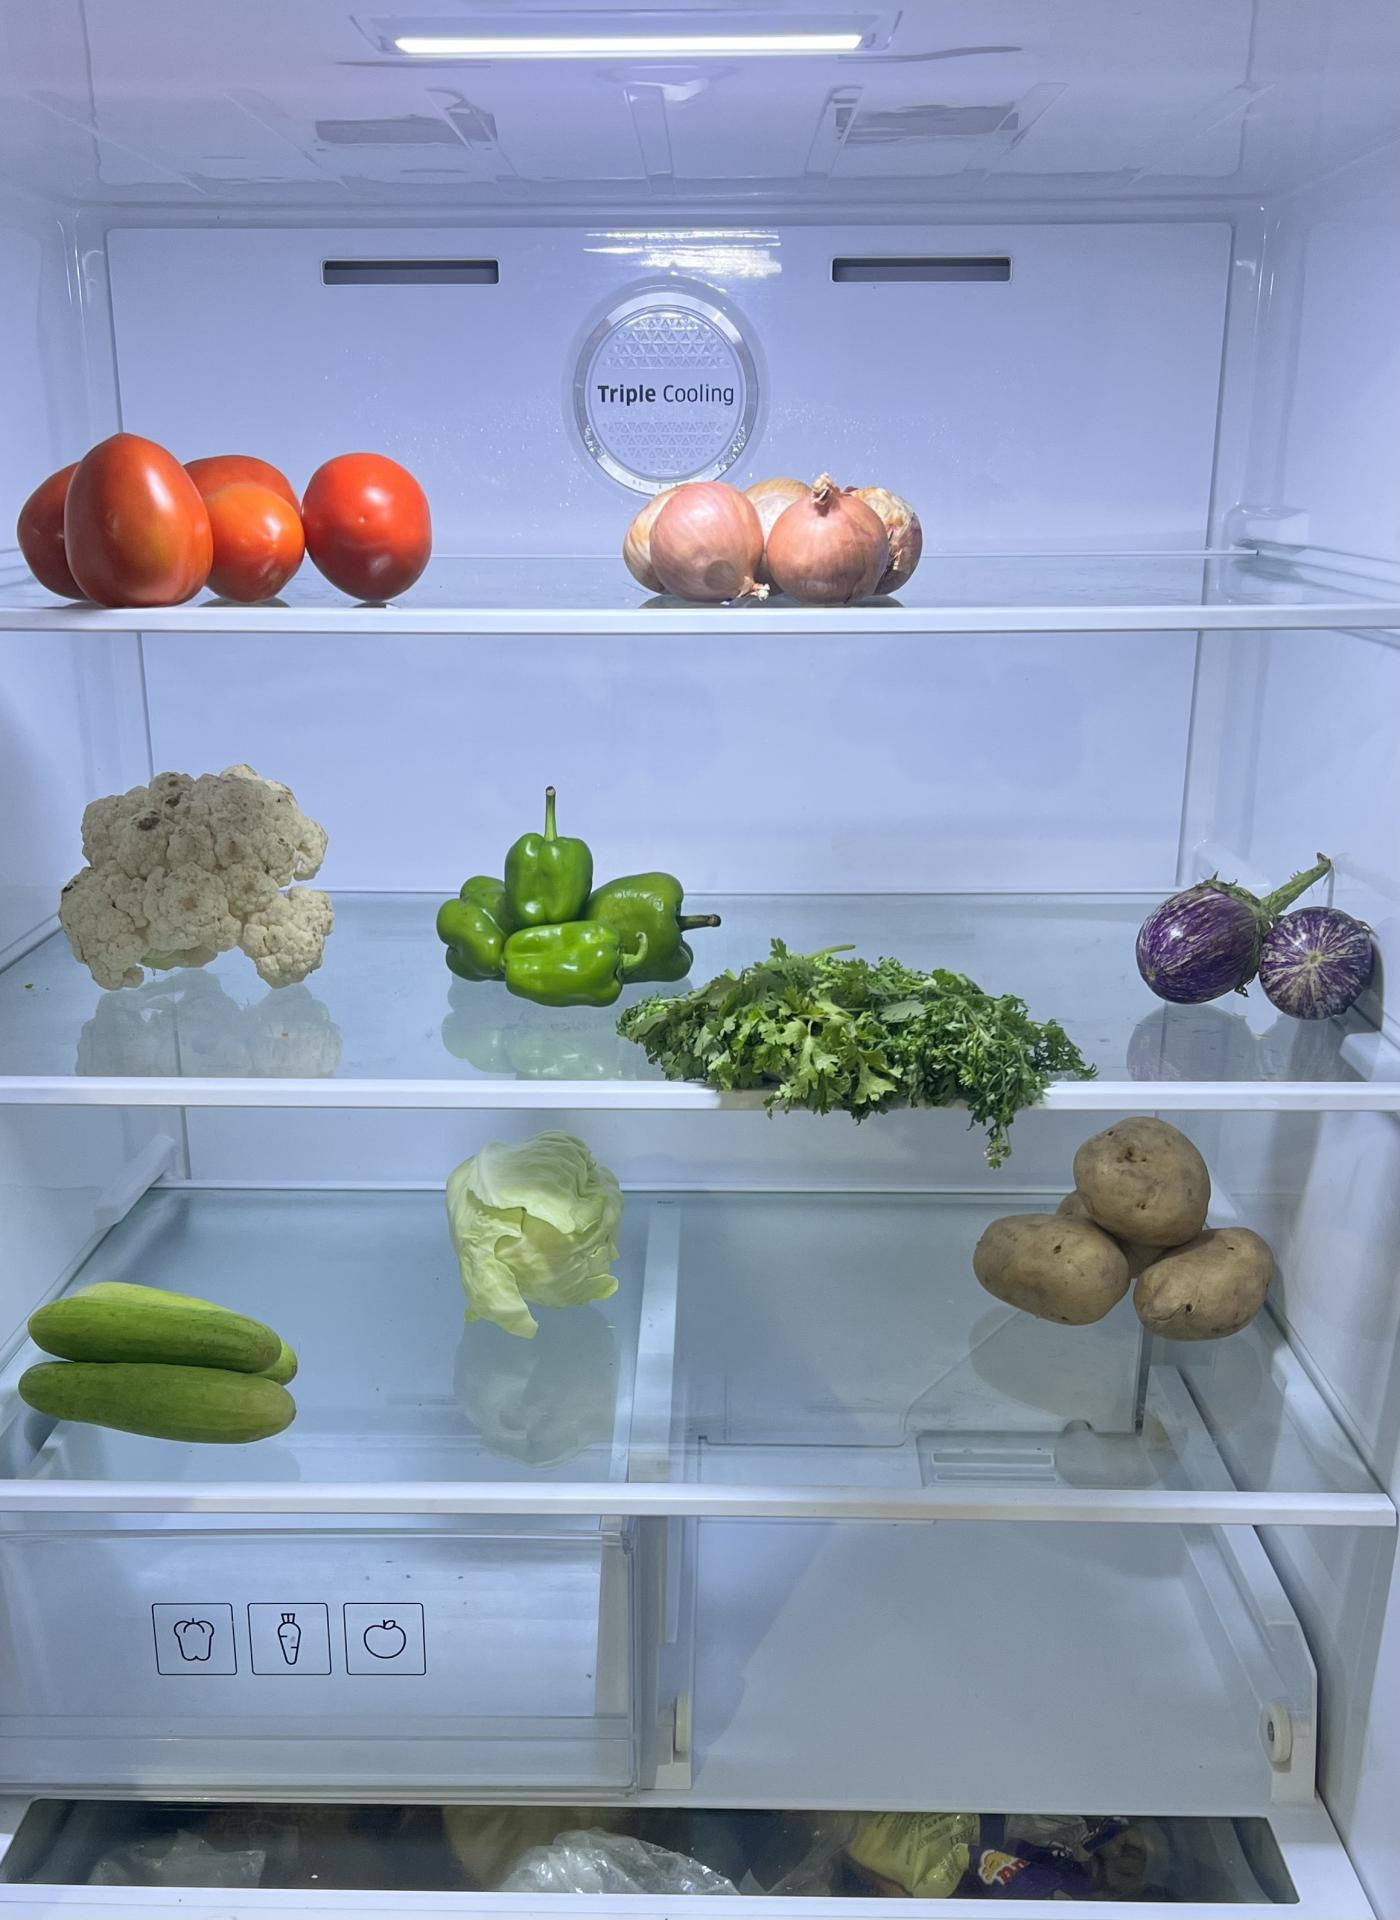brinjal: (1136, 865, 1397, 1029)
cabbage: (452, 1134, 632, 1327)
capsicum: (437, 832, 698, 1011)
cauliflower: (58, 759, 334, 985)
coriander: (635, 944, 1087, 1115)
cucumber: (7, 1288, 309, 1444)
onion: (620, 476, 924, 611)
potato: (978, 1118, 1287, 1346)
tomato: (13, 437, 440, 617)
